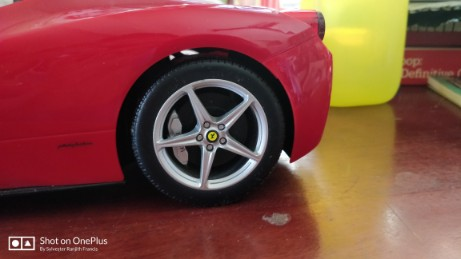aligned_wheel: (119, 53, 296, 212)
